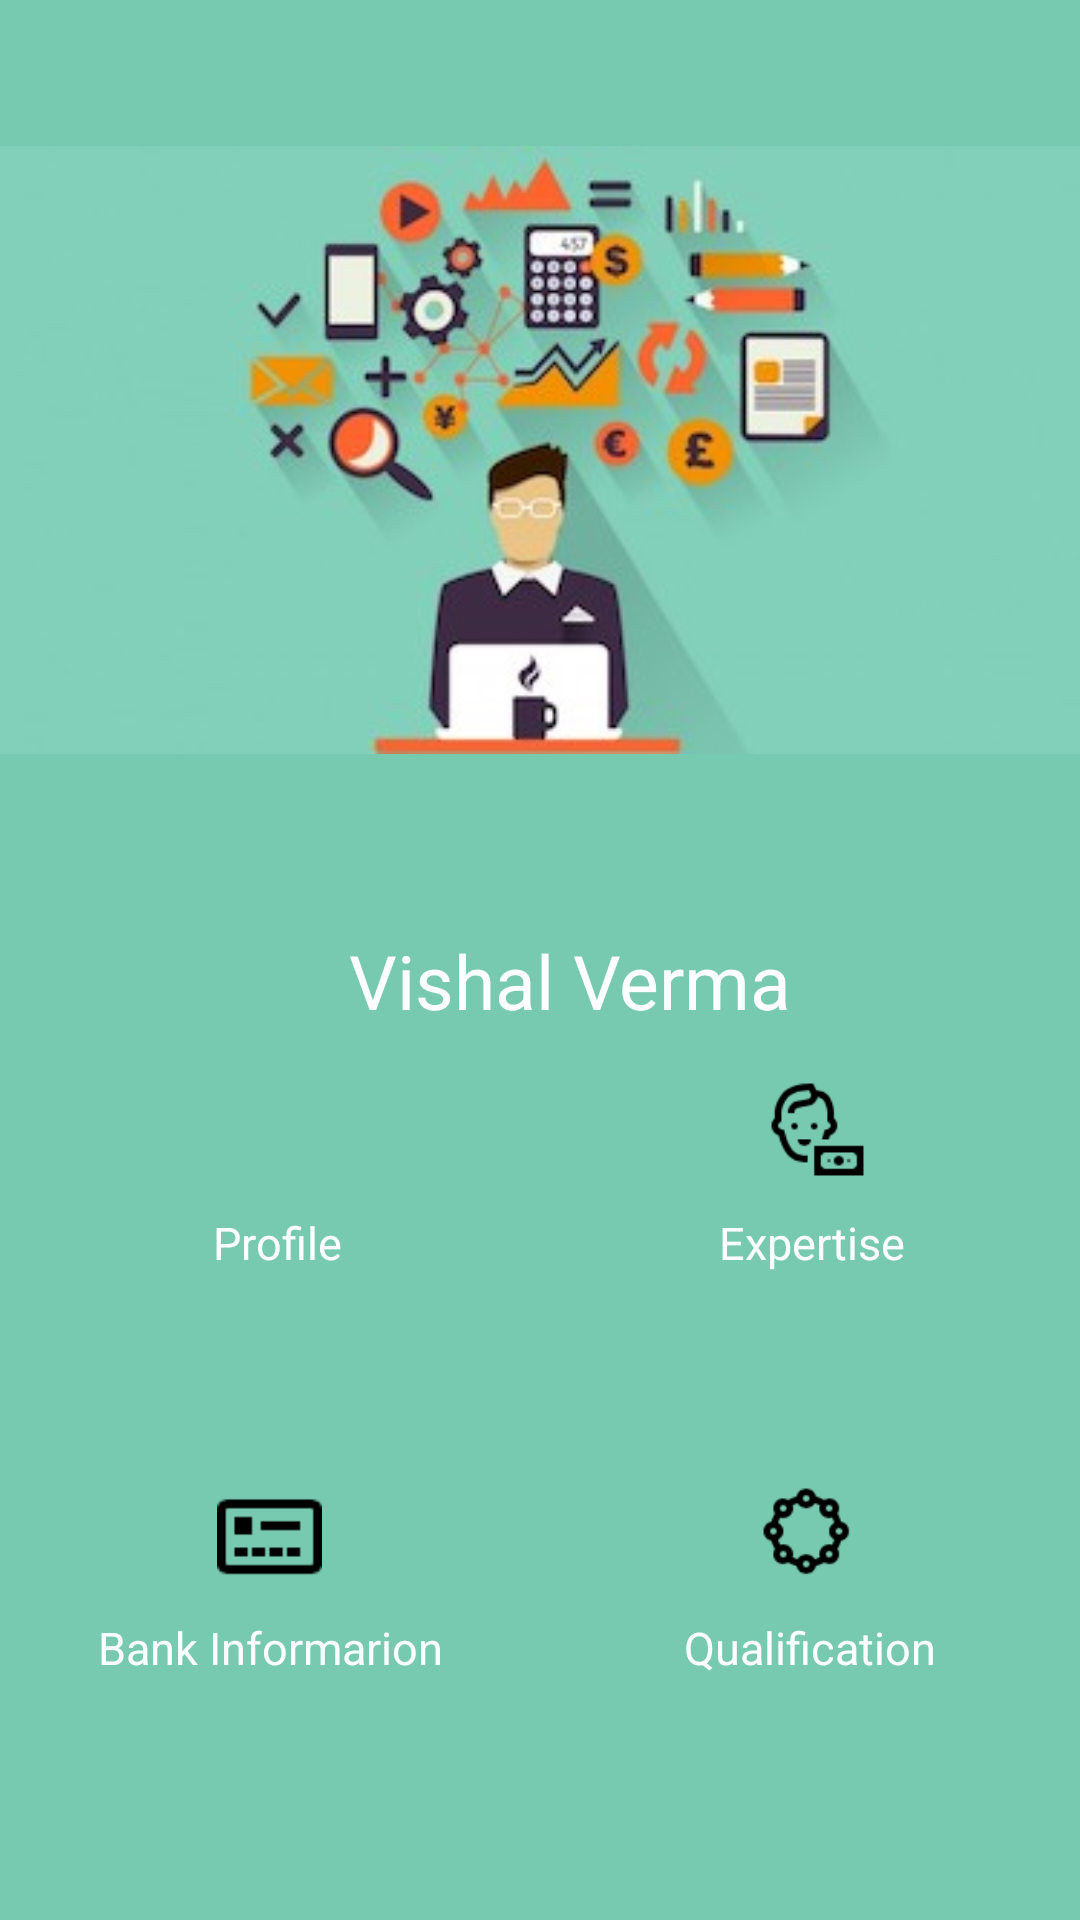

Locate icon controls on the screen. Image size 1080x1920, boxes as (x1, y1, x2, y2).
bank detail: (217, 1499, 322, 1575)
